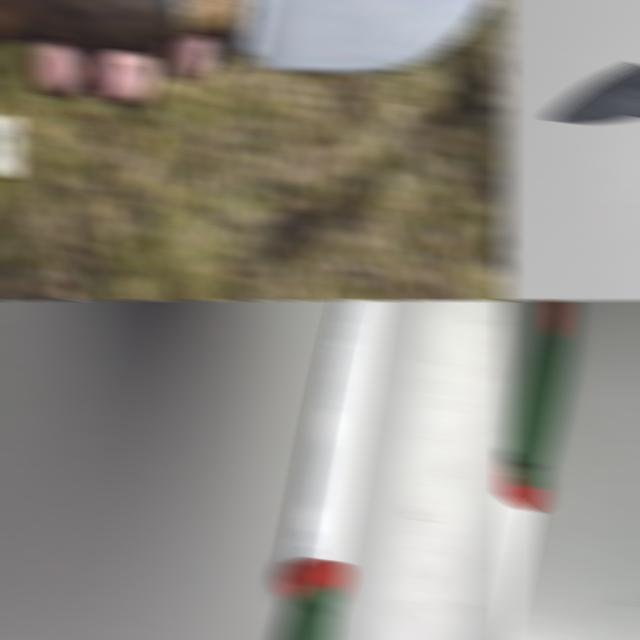Knife: (274, 300, 392, 640), (0, 0, 500, 70), (500, 300, 579, 640)
Knife_Handle: (0, 0, 490, 64)
